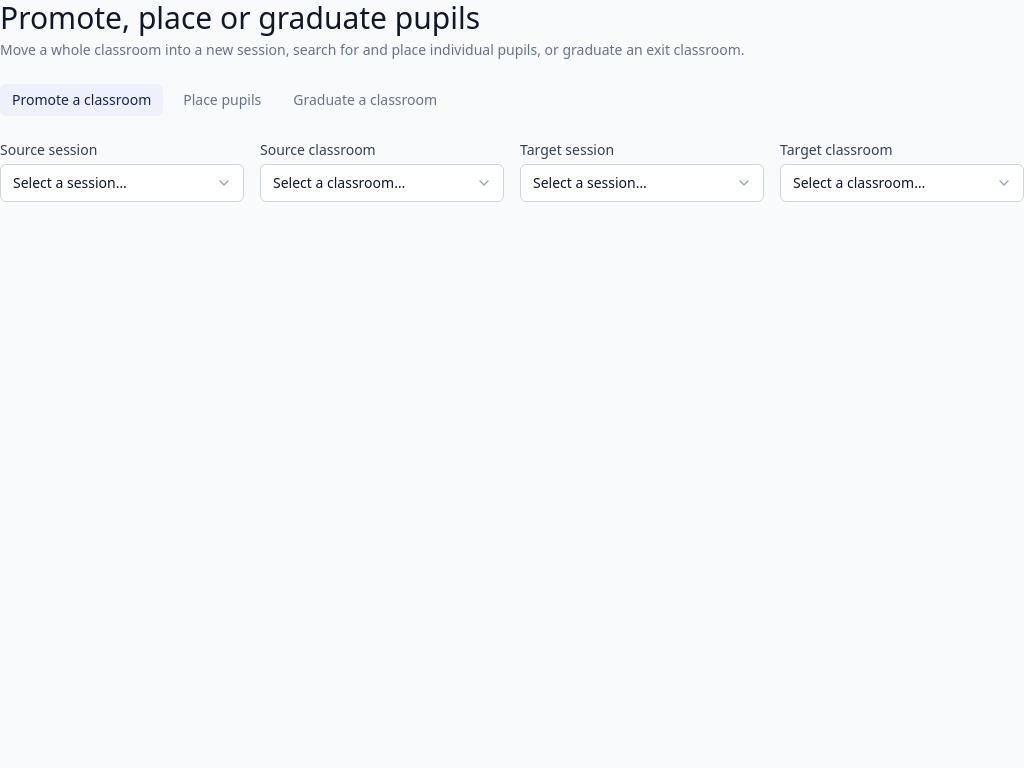
it: PromotionPage › graduates the deselected-adjusted roster of a class after confirming
The image size is (1024, 768).
Click the button "Graduate a classroom" at [365, 100], box [281, 84, 449, 116]
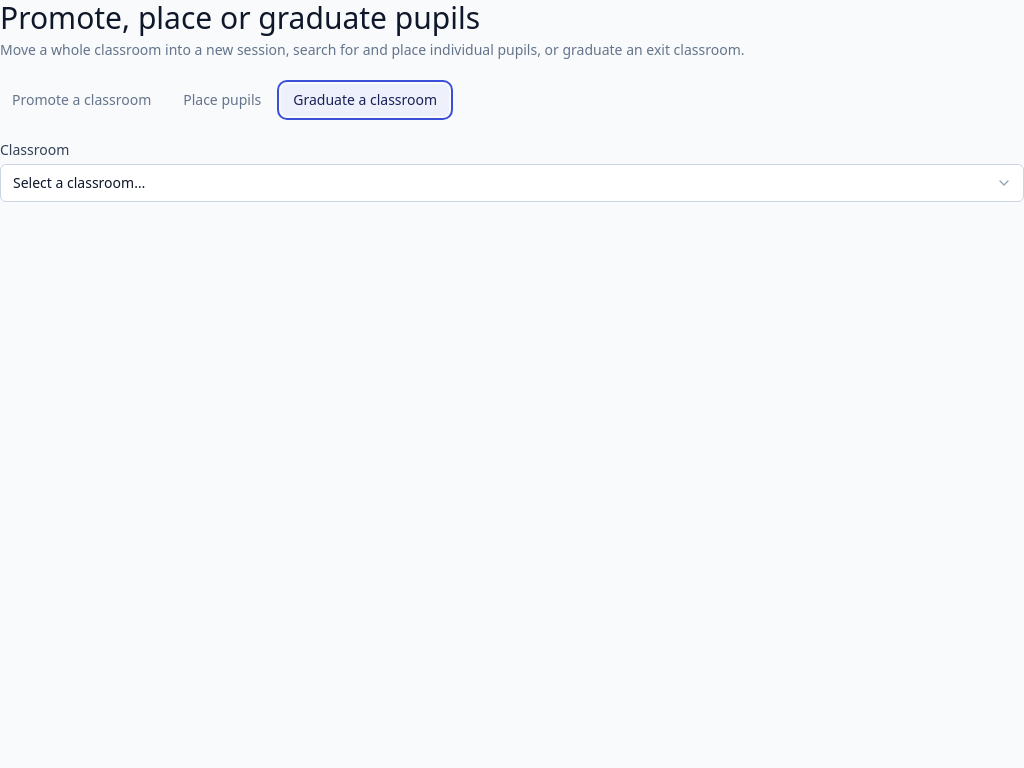
Select "Primary 1" in the dropdown labelled "Classroom" at [512, 183], box [0, 164, 1023, 202]
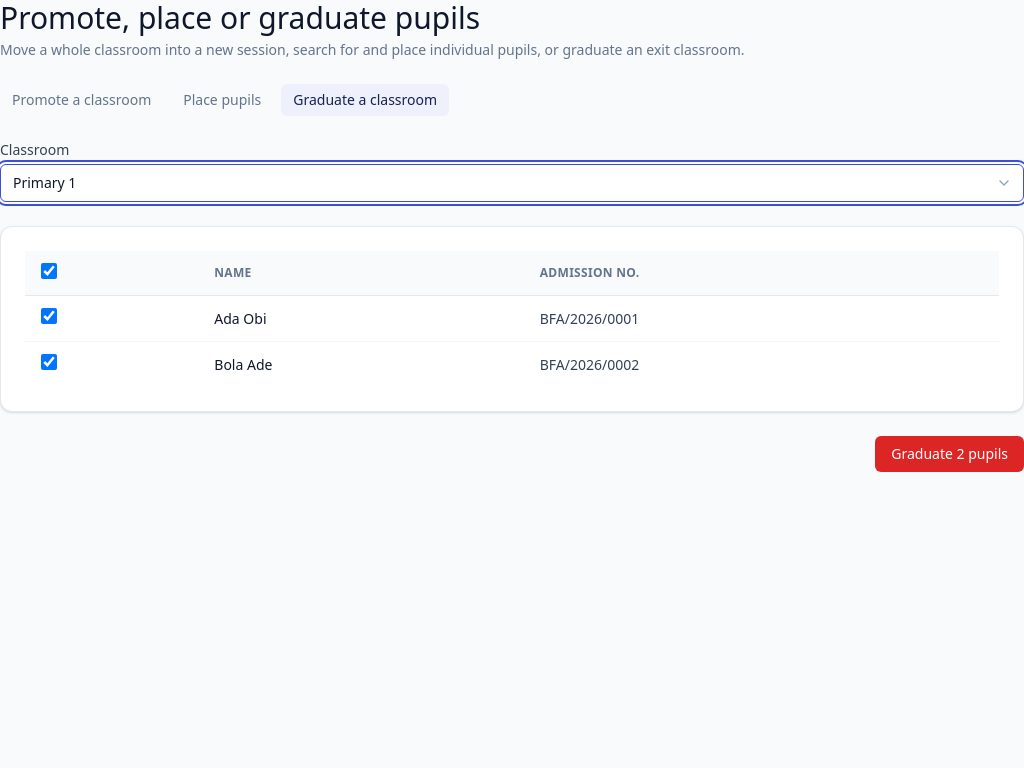
Expected: the text "Ada Obi" is shown, [198, 296, 524, 342]
Click the checkbox named "Select Bola Ade" at [49, 362], box [41, 354, 57, 370]
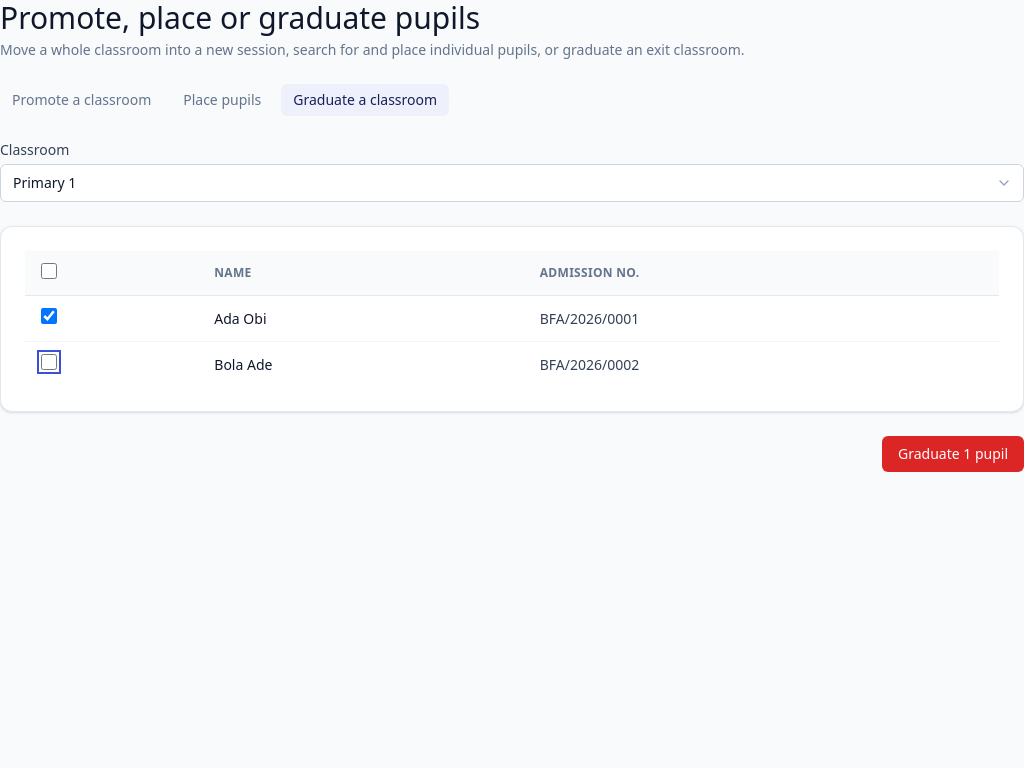
Click the button "Graduate 1 pupil" at [953, 454], box [882, 436, 1023, 472]
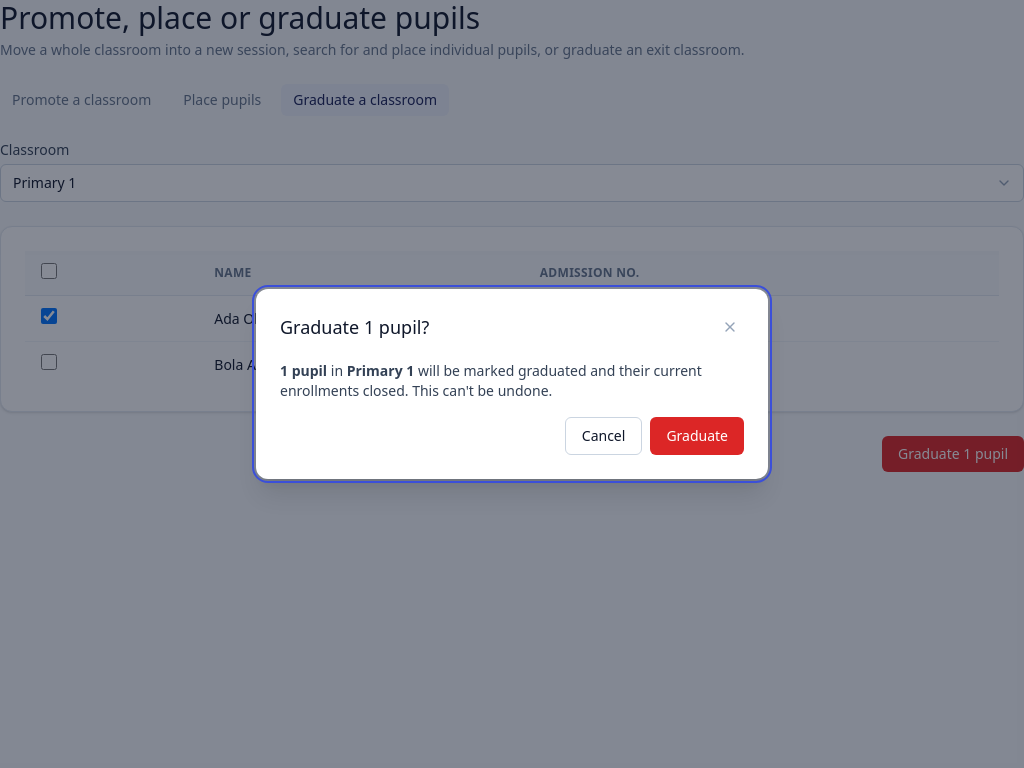
Click the button "Graduate" at [697, 436], box [650, 417, 744, 455]
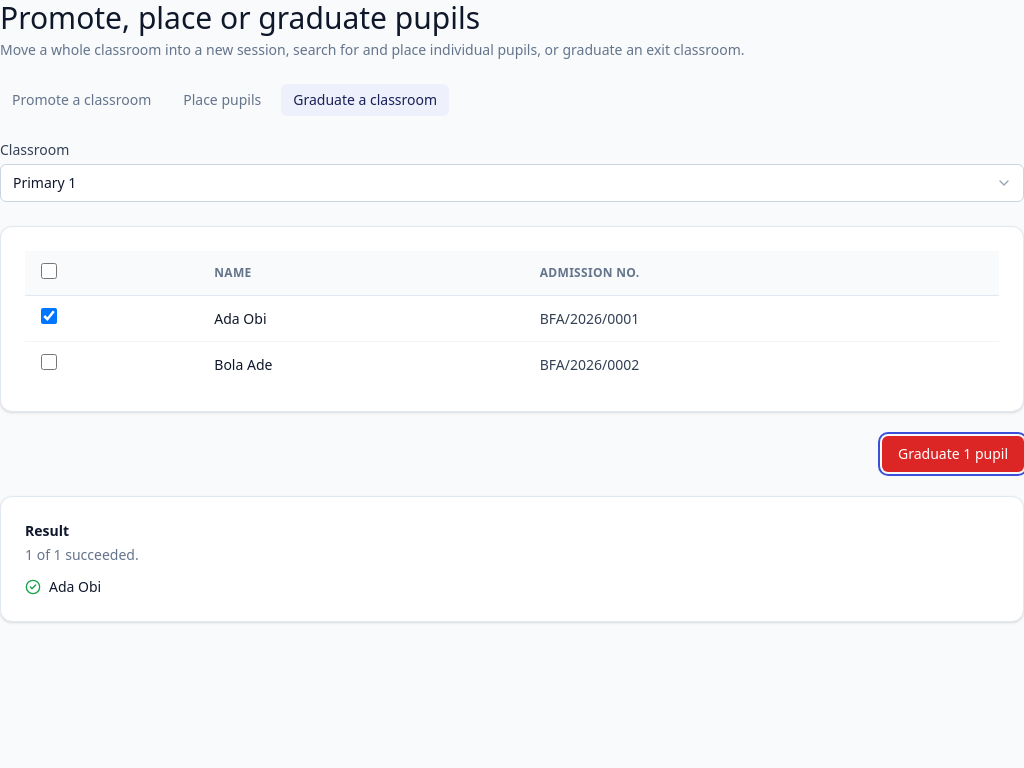
Expected: the text "1 of 1 succeeded." is shown, [25, 545, 139, 564]
